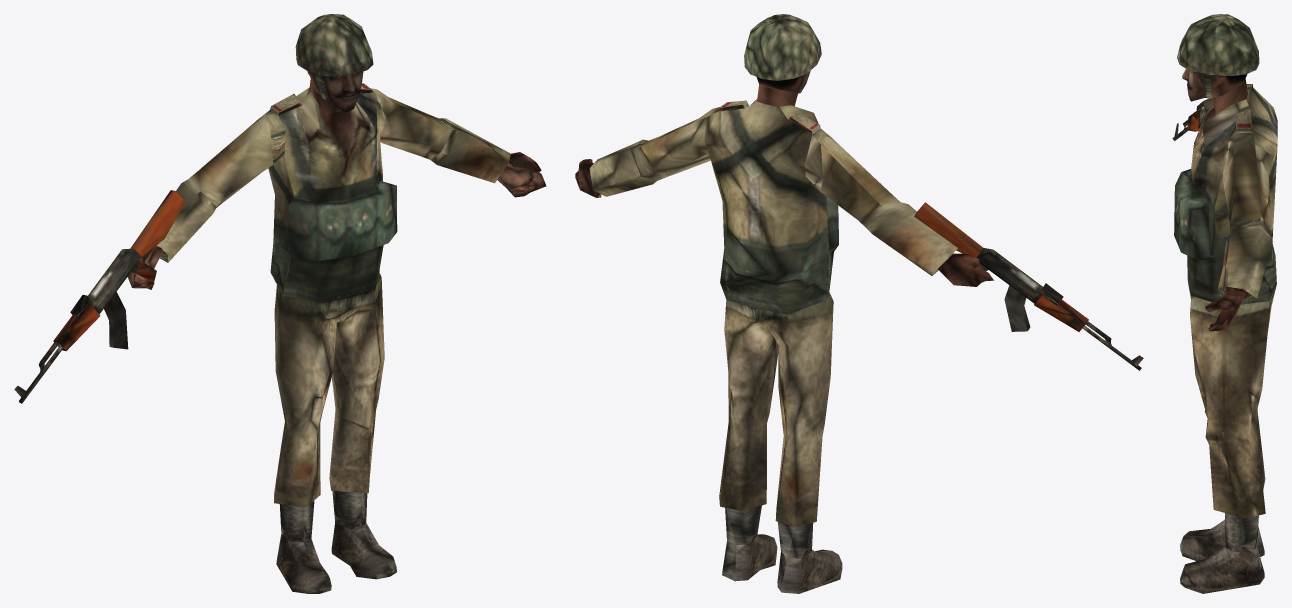
File: PakSldr2.glb
3 renders of one model, left to right at view 1: azimuth 30°, elevation 25°; view 2: azimuth 150°, elevation 25°; view 3: azimuth 270°, elevation 25°, orthographic.
Parts seen in each view (by area): view 1: _PakSldr2; view 2: _PakSldr2; view 3: _PakSldr2.
Boxes of the visible parts, x1,y1,x2,y2 form: _PakSldr2: (14,14,546,593); _PakSldr2: (575,14,1143,593); _PakSldr2: (1172,14,1277,593).
Bounding box in the file's own units: 2.12 × 2.06 × 0.3558.
2 materials, 2 textured.
